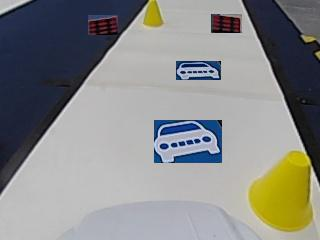cone: (250, 154, 311, 229), (143, 2, 163, 26)
